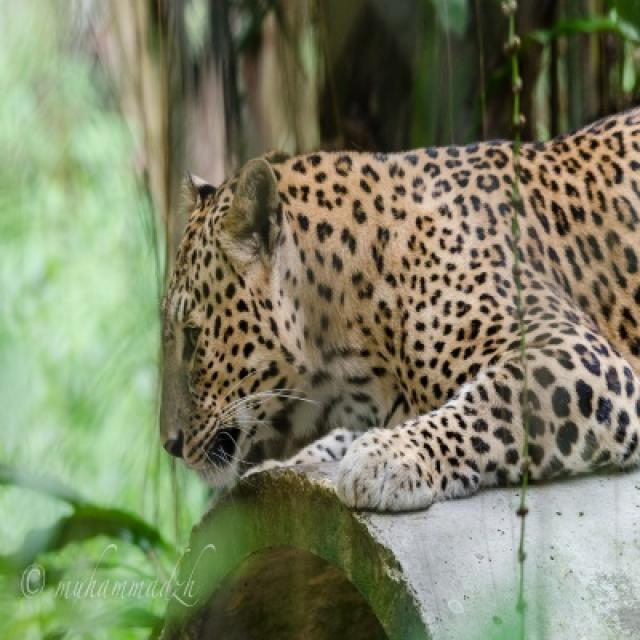Jaguar: (160, 106, 638, 514)
